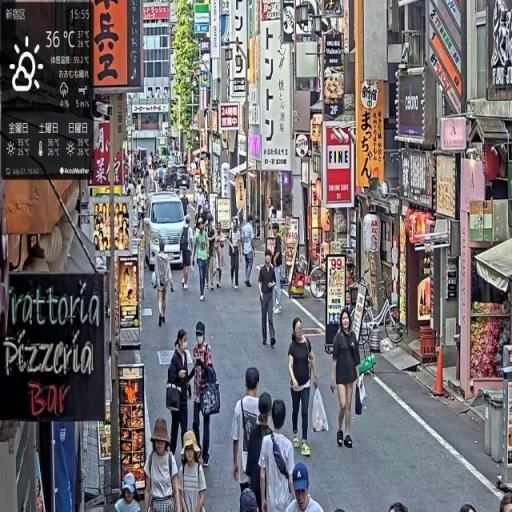person: (189, 323, 221, 468), (231, 366, 264, 504), (332, 310, 363, 451), (260, 397, 298, 512), (289, 319, 319, 462), (143, 415, 185, 512), (167, 328, 194, 469), (246, 393, 277, 512), (178, 429, 207, 512), (258, 249, 279, 351), (154, 238, 176, 329), (287, 463, 326, 512), (195, 219, 212, 303), (271, 223, 285, 317), (241, 215, 258, 290), (114, 471, 143, 512), (229, 217, 244, 291), (180, 217, 194, 292), (214, 223, 227, 291)
